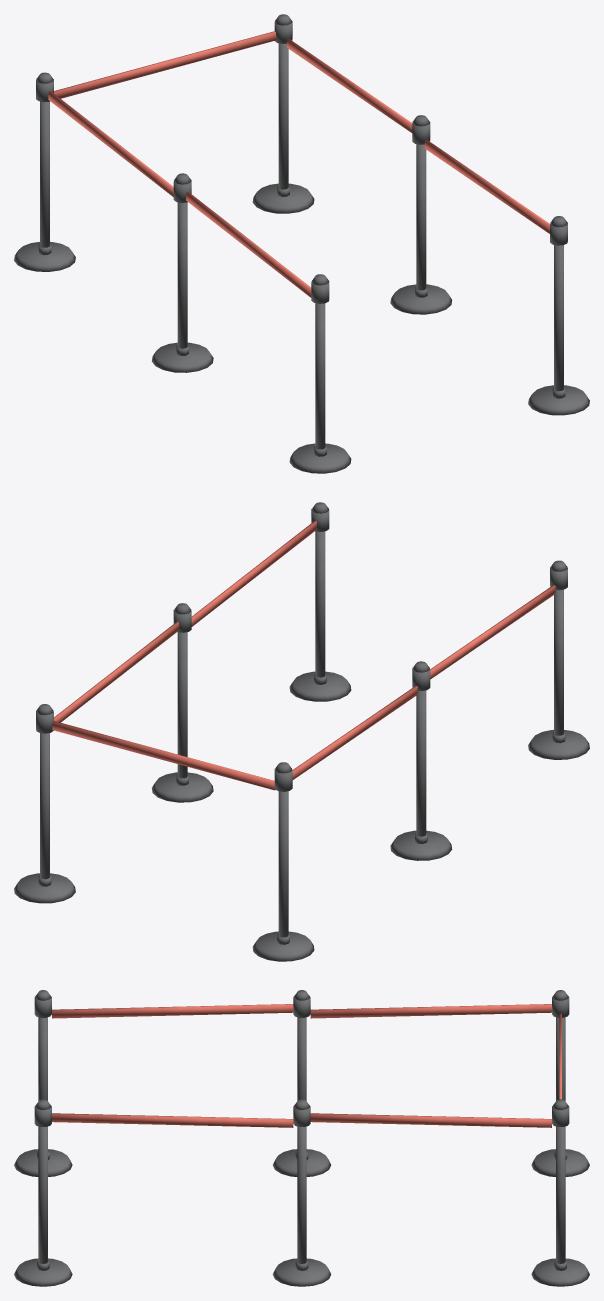
The model's file is Pagamento_QueueStanchions.fbx.
The picture shows the model from 3 angles, top to bottom: view 1: azimuth 30°, elevation 25°; view 2: azimuth 150°, elevation 25°; view 3: azimuth 270°, elevation 25°; orthographic projection. The views are drawn at different scales.
Parts seen in each view (by area): view 1: Pagamento_QueueStanchions; view 2: Pagamento_QueueStanchions; view 3: Pagamento_QueueStanchions.
Boxes of the visible parts, <box> form: Pagamento_QueueStanchions: <box>14,14,589,473</box>; Pagamento_QueueStanchions: <box>14,502,589,961</box>; Pagamento_QueueStanchions: <box>14,990,589,1286</box>.
Bounding box in the file's own units: 1.84 × 1.11 × 3.34.
Materials: 1 (1 with a texture image).
